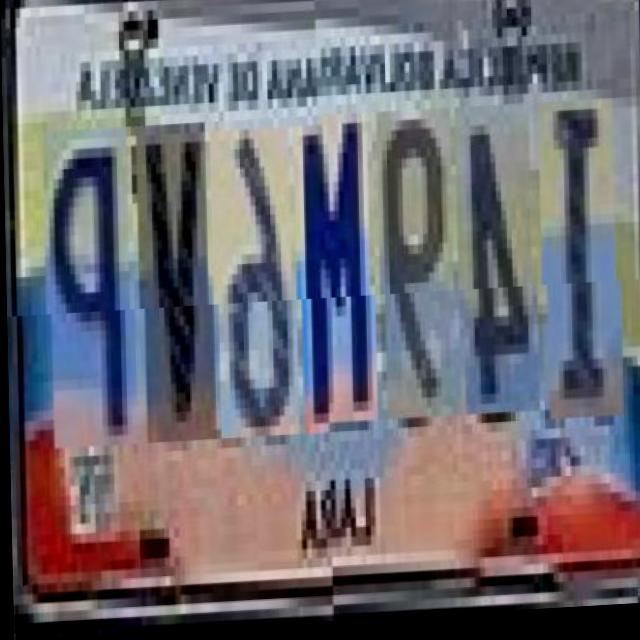4: (455, 119, 533, 431)
6: (209, 130, 293, 442)
9: (376, 122, 456, 434)
i: (537, 115, 617, 436)
m: (292, 126, 372, 438)
p: (42, 127, 131, 450)
v: (135, 124, 210, 446)
